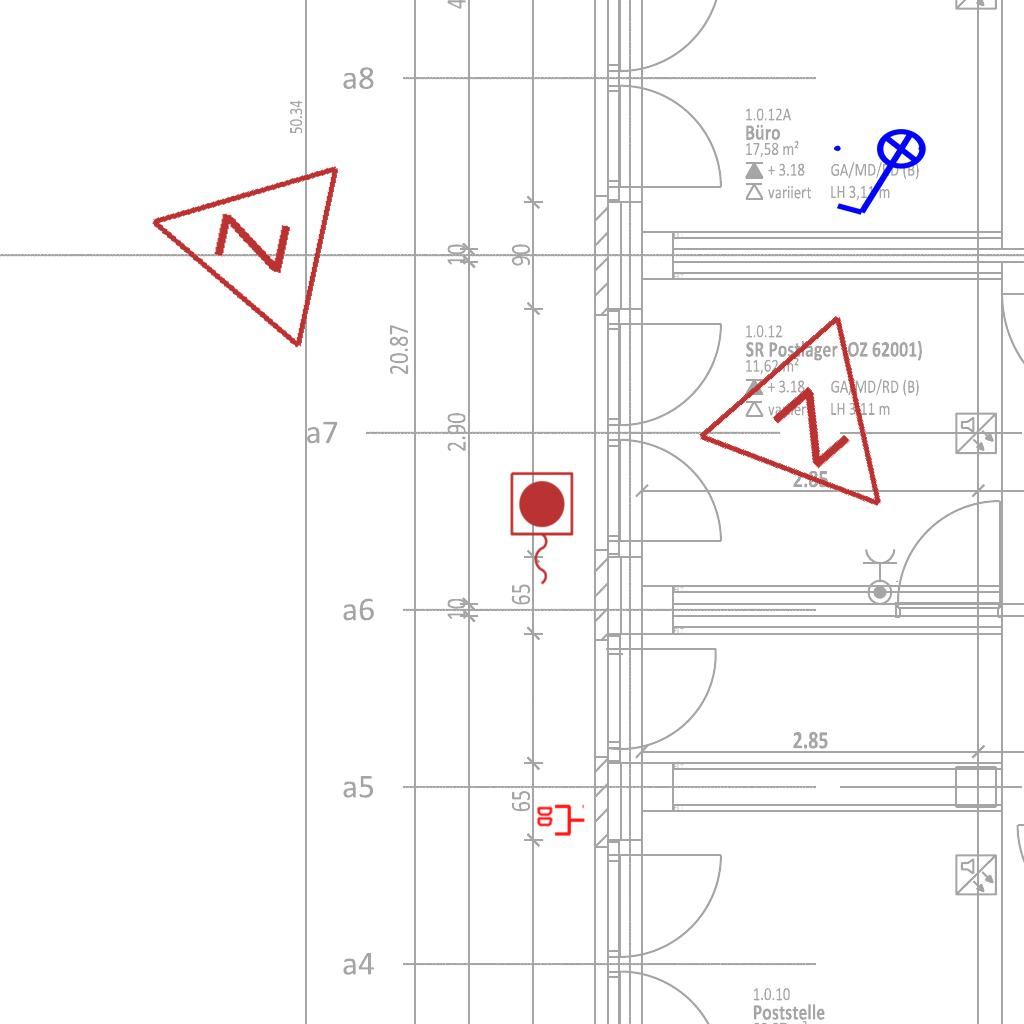Ausschalter_beleuchtet: (828, 127, 940, 223)
Datenanschluss_zweifach: (535, 804, 586, 838)
Zimmersignalleuchte: (685, 298, 965, 578), (117, 125, 355, 359)
Zugtaster: (505, 468, 577, 590)
